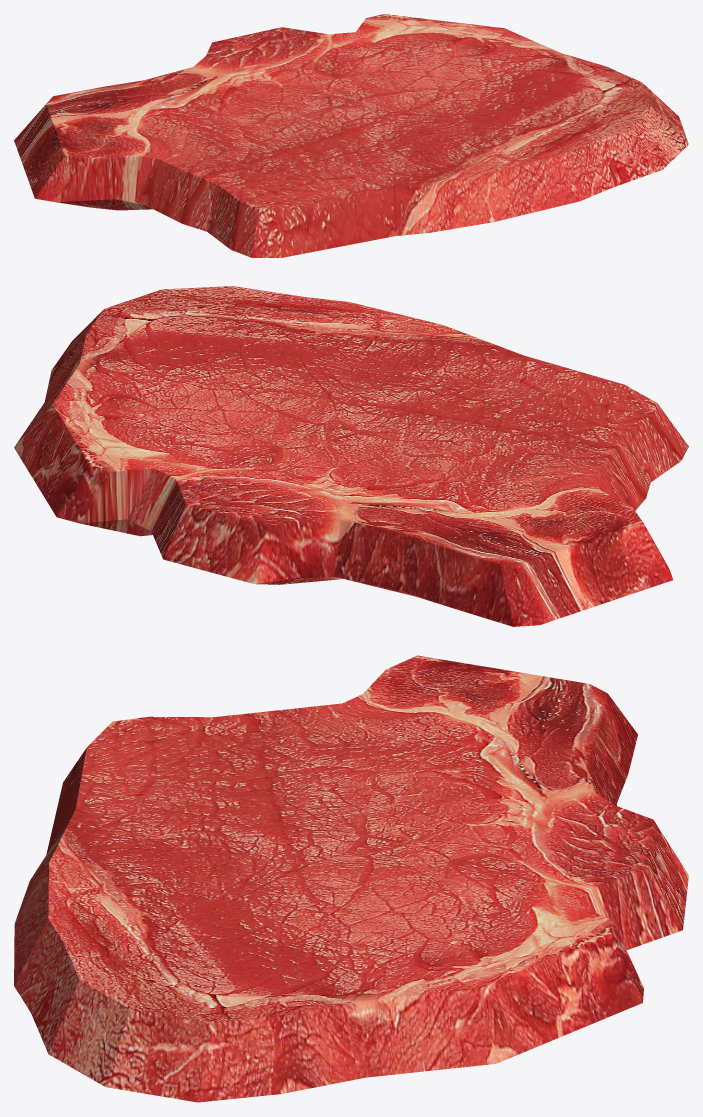
File: Meat.obj
3 renders of one model, top to bottom at view 1: azimuth 30°, elevation 25°; view 2: azimuth 150°, elevation 25°; view 3: azimuth 270°, elevation 25°, orthographic. The views are drawn at different scales.
Parts seen in each view (by area): view 1: Meat; view 2: Meat; view 3: Meat.
Part boxes in pixels (bbox=[...]): Meat: bbox=[14, 14, 688, 257]; Meat: bbox=[14, 286, 688, 626]; Meat: bbox=[14, 655, 688, 1102].
Bounding box in the file's own units: 100 × 9.39 × 69.54.
